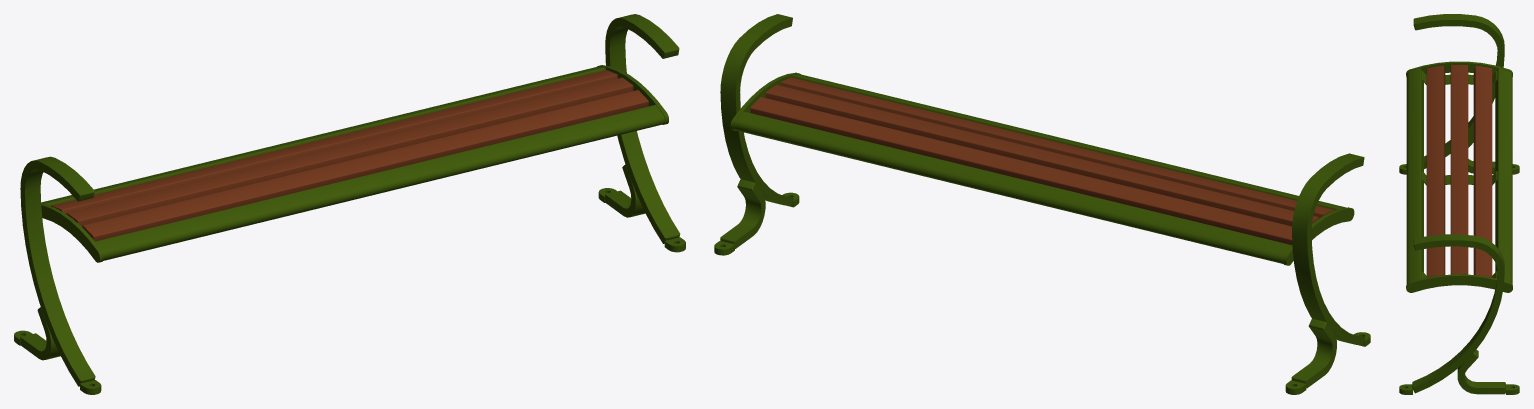
3 renders of one model, left to right at view 1: azimuth 30°, elevation 25°; view 2: azimuth 150°, elevation 25°; view 3: azimuth 270°, elevation 25°, orthographic. The views are drawn at different scales.
Parts seen in each view (by area): view 1: mesh1_mesh1-geometry, mesh7_mesh7-geometry, mesh16_mesh16-geometry, mesh11_mesh11-geometry, mesh21_mesh21-geometry, mesh24_mesh24-geometry; view 2: mesh1_mesh1-geometry, mesh7_mesh7-geometry, mesh16_mesh16-geometry, mesh11_mesh11-geometry, mesh21_mesh21-geometry, mesh24_mesh24-geometry; view 3: mesh1_mesh1-geometry, mesh7_mesh7-geometry, mesh16_mesh16-geometry, mesh21_mesh21-geometry, mesh11_mesh11-geometry, mesh4_mesh4-geometry, mesh24_mesh24-geometry.
Boxes of the visible parts, left/top/right/bottom form: mesh1_mesh1-geometry: left=51, top=70, right=648, bottom=241; mesh7_mesh7-geometry: left=41, top=66, right=664, bottom=260; mesh16_mesh16-geometry: left=20, top=14, right=680, bottom=386; mesh11_mesh11-geometry: left=20, top=164, right=645, bottom=360; mesh21_mesh21-geometry: left=41, top=65, right=668, bottom=262; mesh24_mesh24-geometry: left=14, top=188, right=685, bottom=394; mesh1_mesh1-geometry: left=750, top=77, right=1334, bottom=244; mesh7_mesh7-geometry: left=734, top=74, right=1345, bottom=263; mesh16_mesh16-geometry: left=720, top=14, right=1365, bottom=345; mesh11_mesh11-geometry: left=720, top=179, right=1336, bottom=388; mesh21_mesh21-geometry: left=730, top=72, right=1354, bottom=265; mesh24_mesh24-geometry: left=714, top=192, right=1370, bottom=394; mesh1_mesh1-geometry: left=1426, top=65, right=1492, bottom=277; mesh7_mesh7-geometry: left=1406, top=68, right=1512, bottom=284; mesh16_mesh16-geometry: left=1412, top=14, right=1504, bottom=393; mesh21_mesh21-geometry: left=1406, top=61, right=1512, bottom=292; mesh11_mesh11-geometry: left=1457, top=133, right=1505, bottom=394; mesh4_mesh4-geometry: left=1421, top=71, right=1497, bottom=278; mesh24_mesh24-geometry: left=1399, top=164, right=1519, bottom=394.
Bounding box in the file's own units: 0.9315 × 0.2973 × 0.2095.
